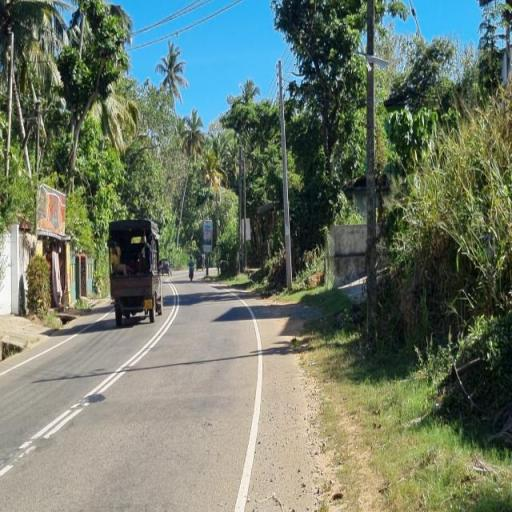double_white_line: (16, 283, 177, 459)
